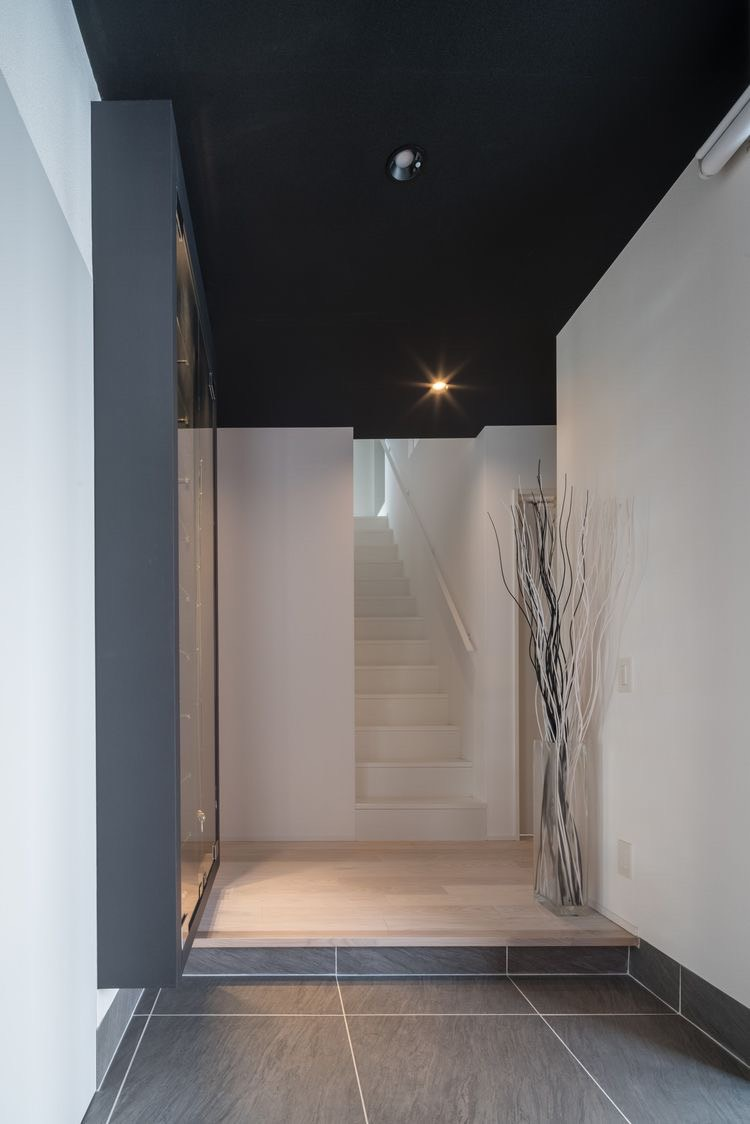floor: (80, 974, 749, 1123)
